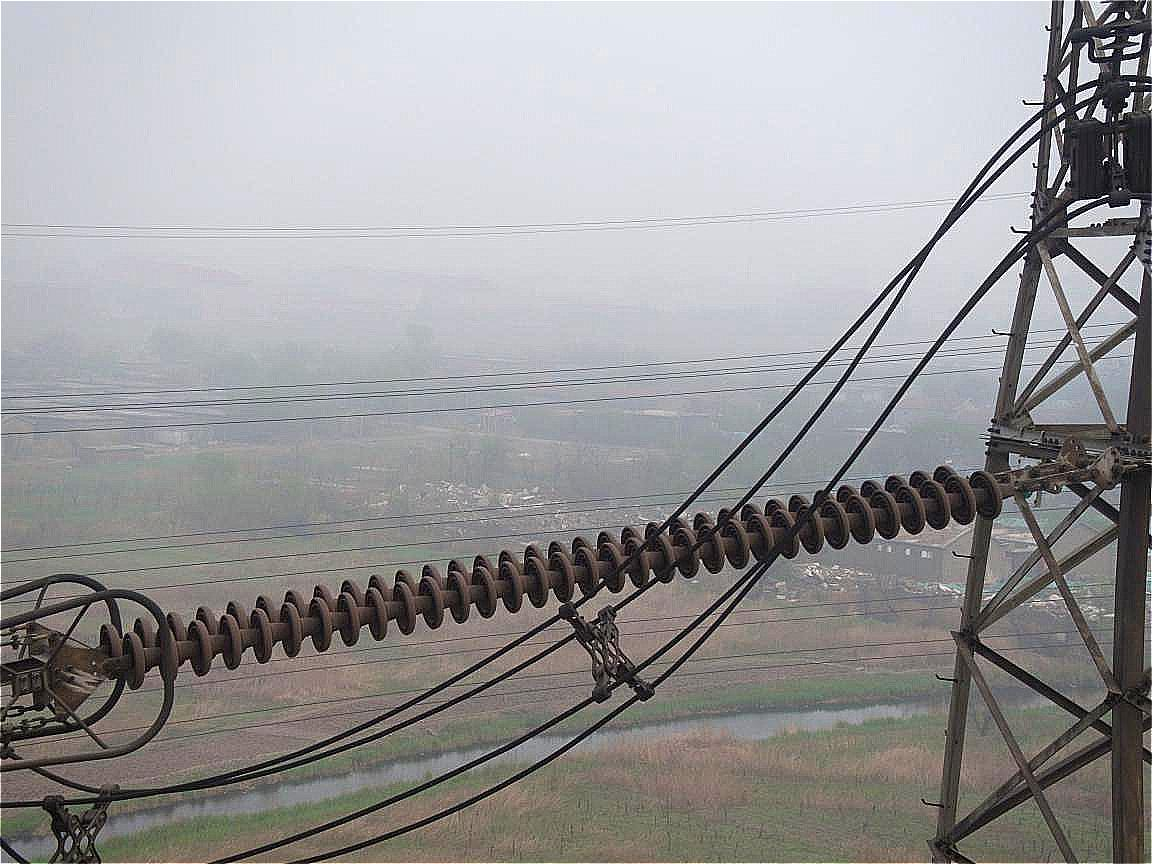insultor1: (77, 453, 1021, 692)
